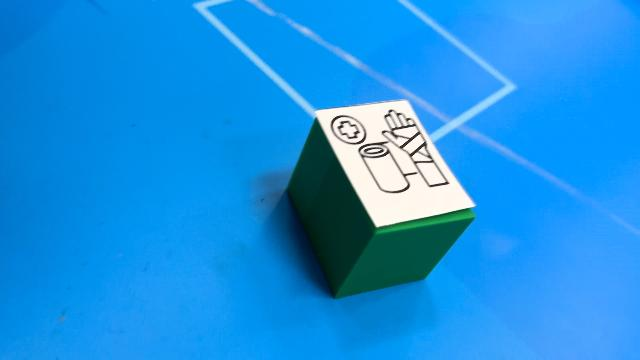bandage: (286, 99, 477, 299)
